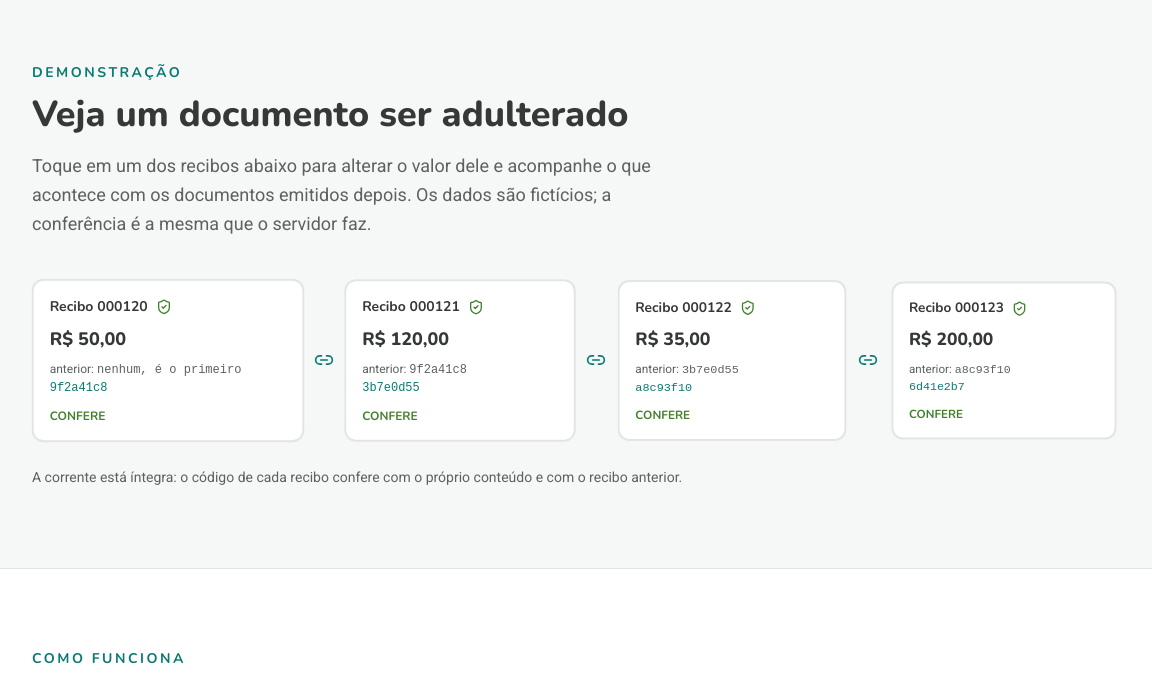
Test: verificação pública de documento › a corrente interativa propaga o estrago para a frente, e só para a frente
(page scrolled)
Expected: the text "confere" is shown 4 times, [50, 408, 106, 424]; [362, 407, 418, 423]; [635, 407, 690, 423]; [909, 406, 963, 422]
Click the button "Recibo 000121 R$ 120,00 anterior: 9f2a41c8 3b7e0d55 confere": [460, 360] box [344, 279, 576, 441]
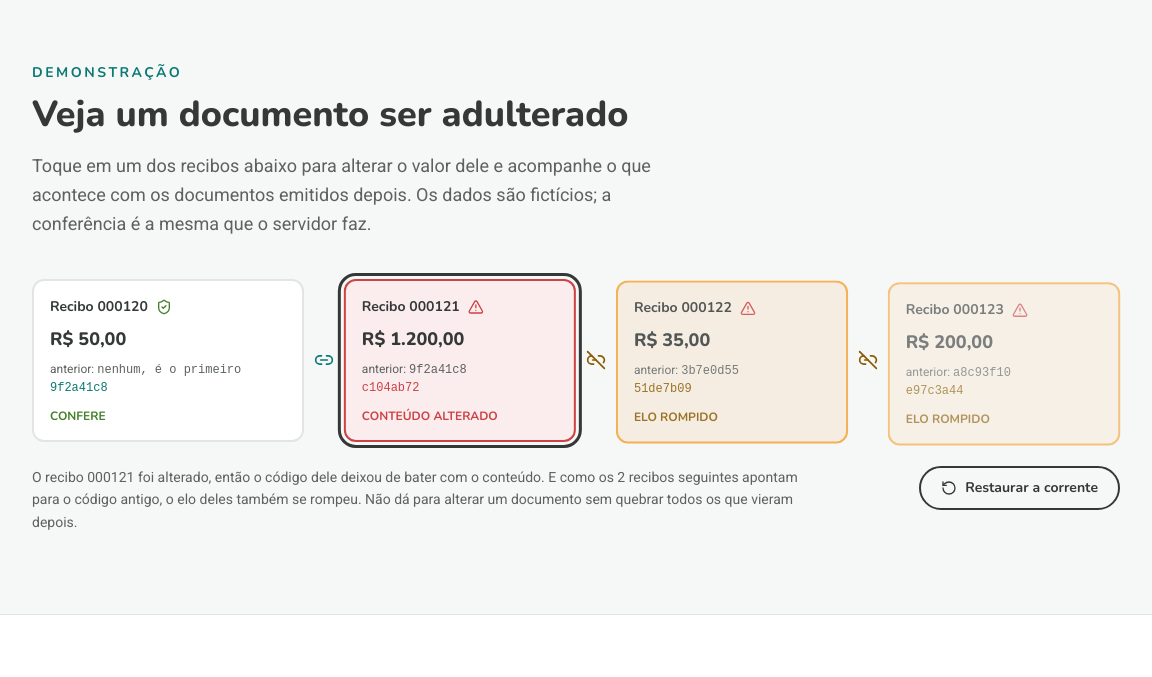
Expected: the text "confere" is shown once, [50, 408, 106, 424]
Result: the text "conteúdo alterado" is shown at [362, 408, 498, 424]
Result: the text "não dá para alterar um documento sem quebrar" is shown at [32, 468, 798, 530]
Click the button "Restaurar a corrente": [1020, 488] box [919, 466, 1120, 510]
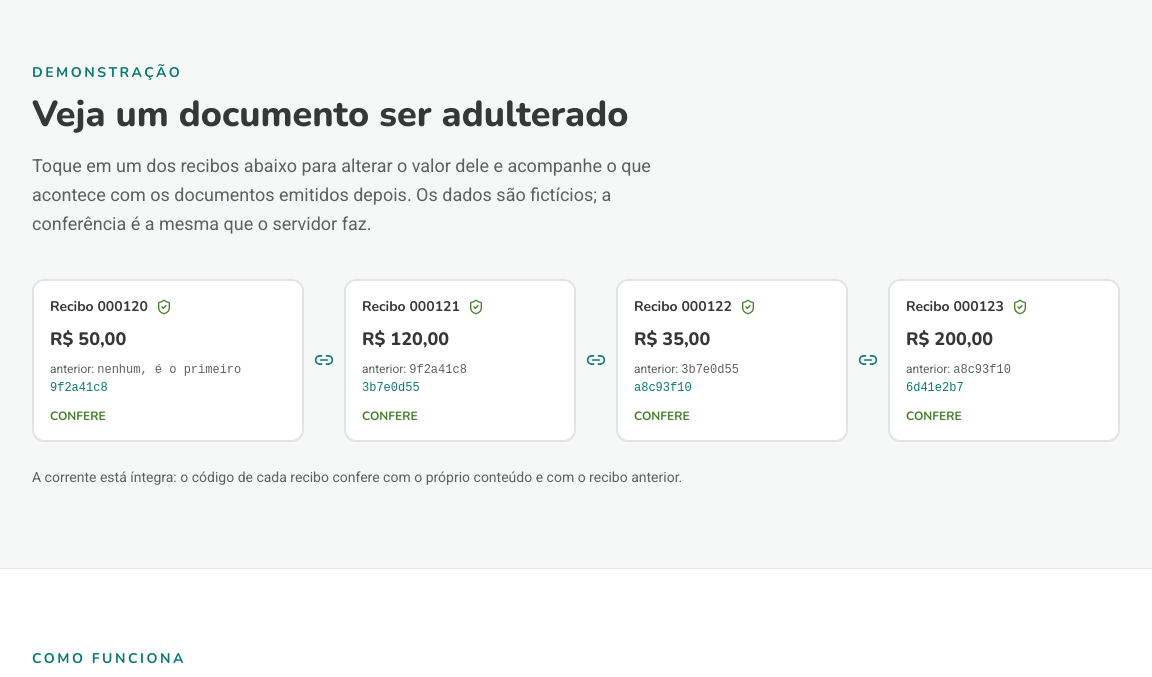
Expected: the text "confere" is shown 4 times, [50, 408, 106, 424]; [362, 408, 418, 424]; [634, 408, 690, 424]; [906, 408, 962, 424]
Result: the button "elo rompido" is gone
